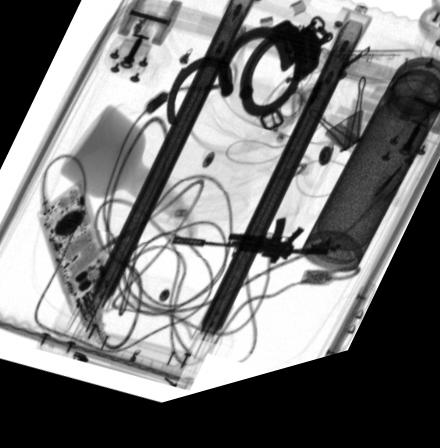Gun: (169, 233, 332, 282)
HandCuffs: (166, 30, 333, 135)
